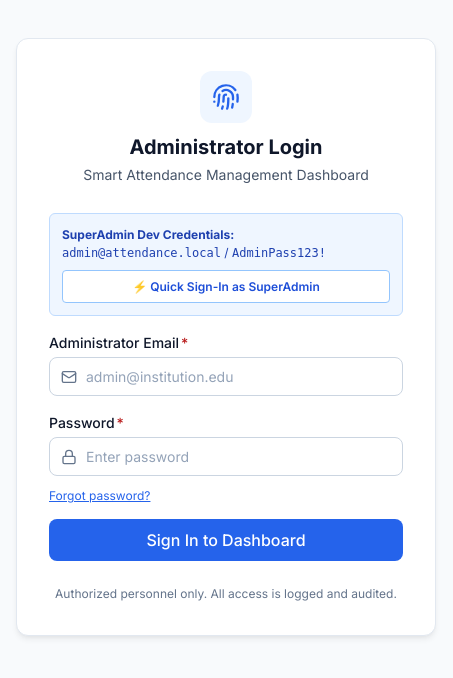
Test: LoginPage Component › validates empty inputs on submit
The width and height of the screenshot is (453, 678).
Click the button "Sign In to Dashboard": (226, 540) [49, 519, 403, 561]
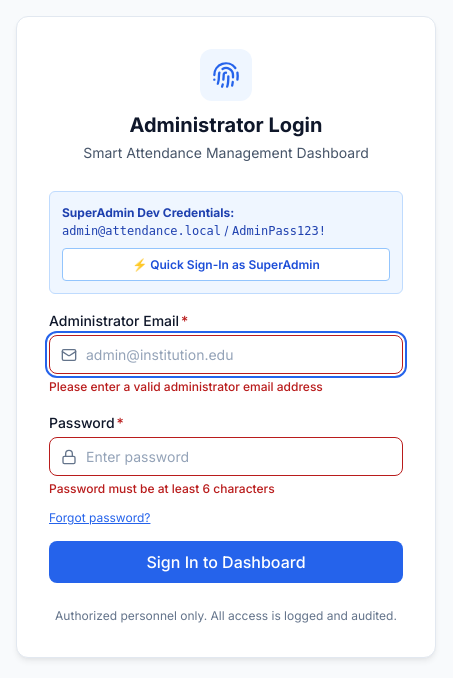
Expected: the text "Please enter a valid administrator email address" is shown, [49, 379, 323, 394]
